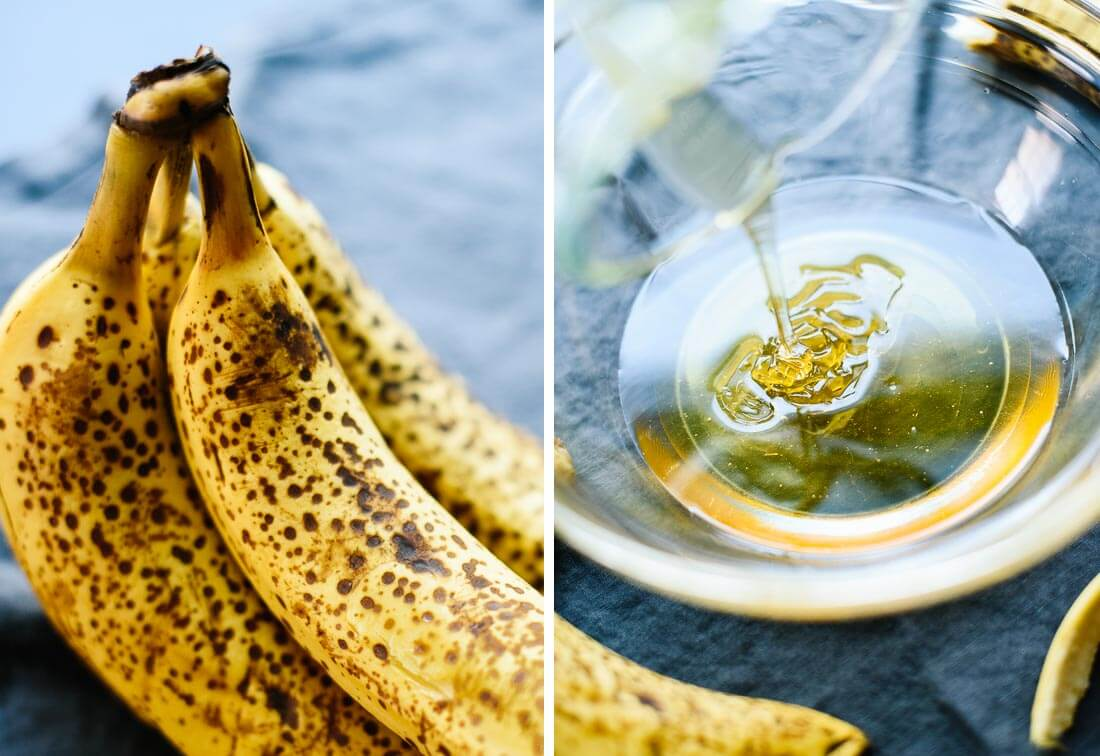banana: (171, 236, 859, 756), (4, 236, 433, 756)
